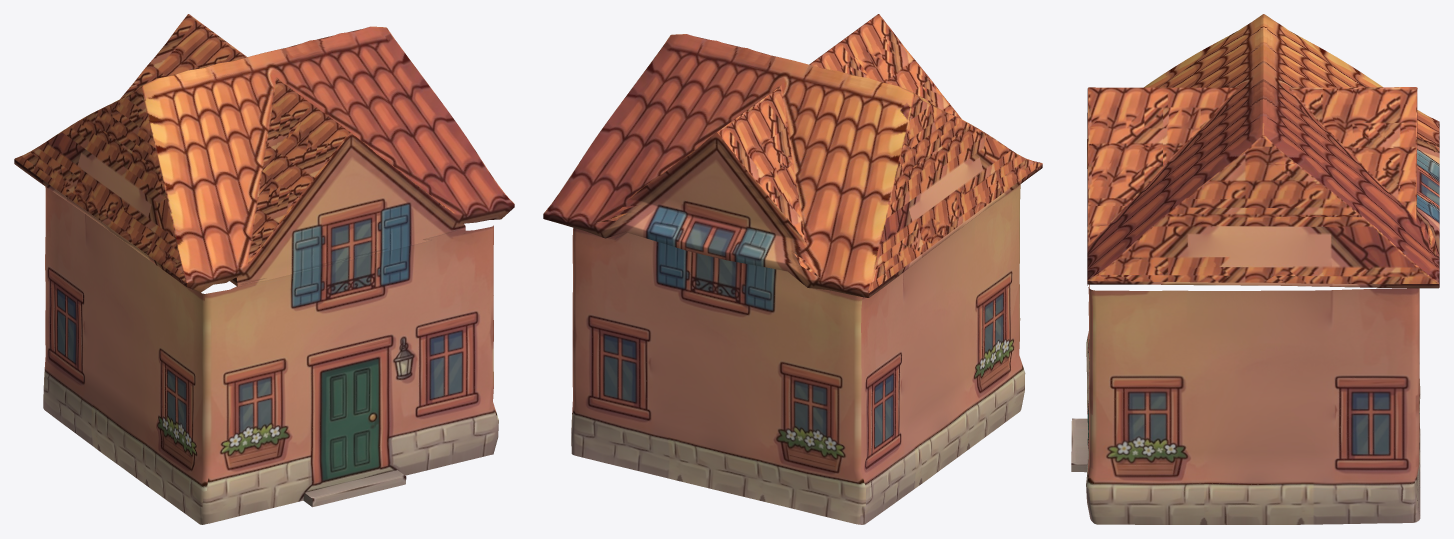
File: havre_maison_2.glb
3 renders of one model, left to right at view 1: azimuth 30°, elevation 25°; view 2: azimuth 150°, elevation 25°; view 3: azimuth 270°, elevation 25°, orthographic.
Parts seen in each view (by area): view 1: maison; view 2: maison; view 3: maison.
Part boxes in pixels (x1,y1,x2,y2): maison: (14, 14, 514, 524); maison: (543, 14, 1042, 524); maison: (1071, 14, 1439, 524).
Size of the model in its own units: 5.12 by 5.64 by 4.92.
1 material, 1 textured.
